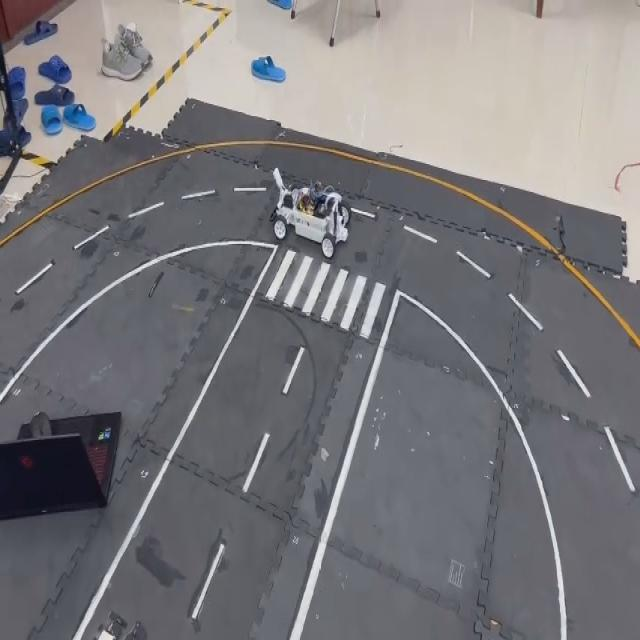SiCo-CAR: (268, 165, 350, 260)
